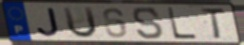6: (101, 7, 129, 39)
J: (36, 7, 62, 38)
L: (166, 7, 199, 41)
S: (131, 6, 166, 41)
T: (198, 8, 228, 41)
U: (61, 6, 99, 40)
